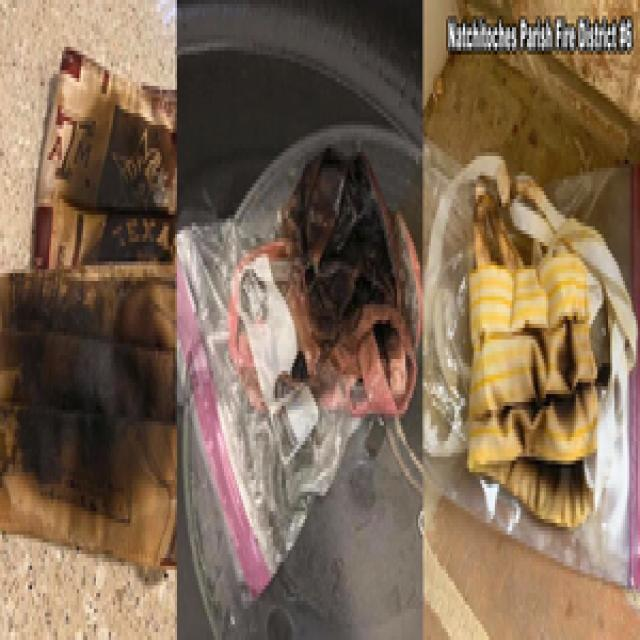face mask: (469, 164, 602, 512)
